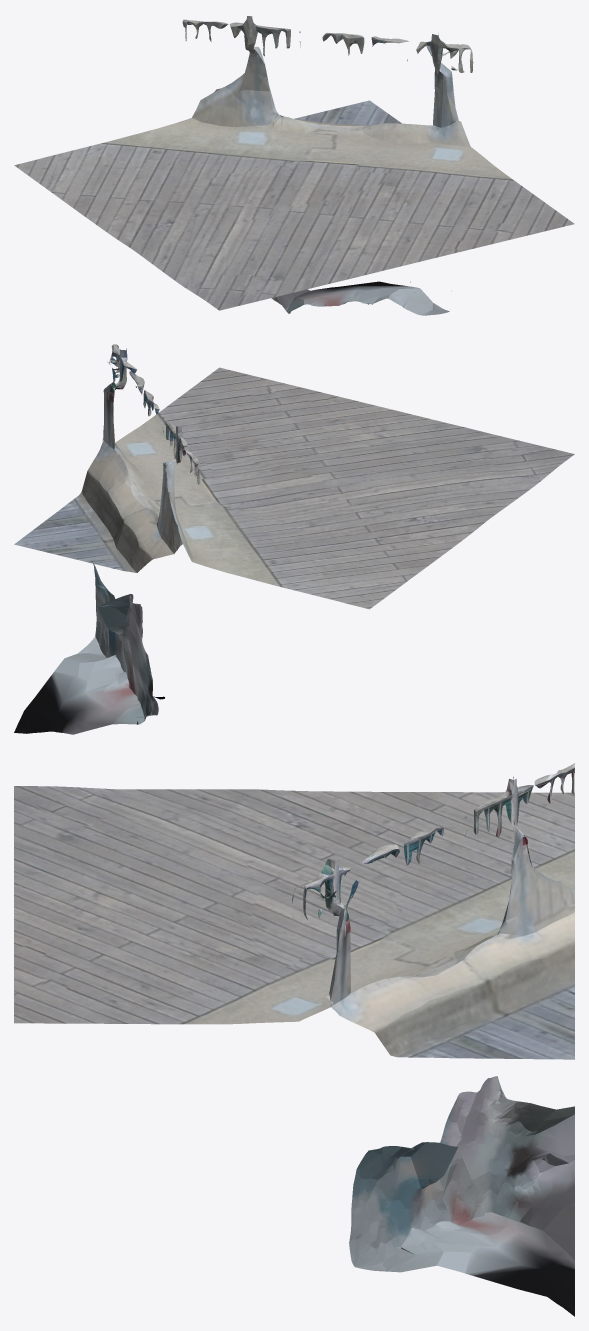
The picture shows the model from 3 angles, top to bottom: view 1: azimuth 30°, elevation 25°; view 2: azimuth 150°, elevation 25°; view 3: azimuth 270°, elevation 25°; orthographic projection. The views are drawn at different scales.
Bounding box in the file's own units: 4.18 × 3.65 × 4.18.
3 materials, 3 textured.
